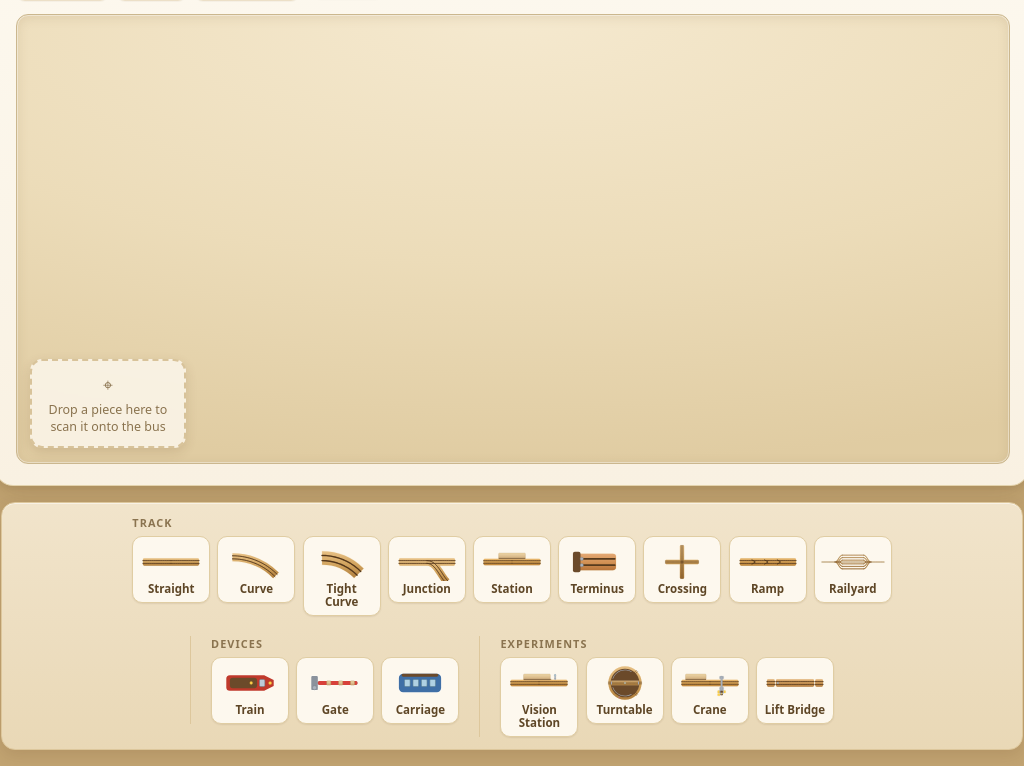
it: ToyTable — palette and placement › fans out the livery options when the carriage tool is armed
(page scrolled)
What coordinates should you click on to do the following:
click the button with test id "toybox-carriage"
I would click on:
 (420, 690)
Its box is [381,657,459,724].
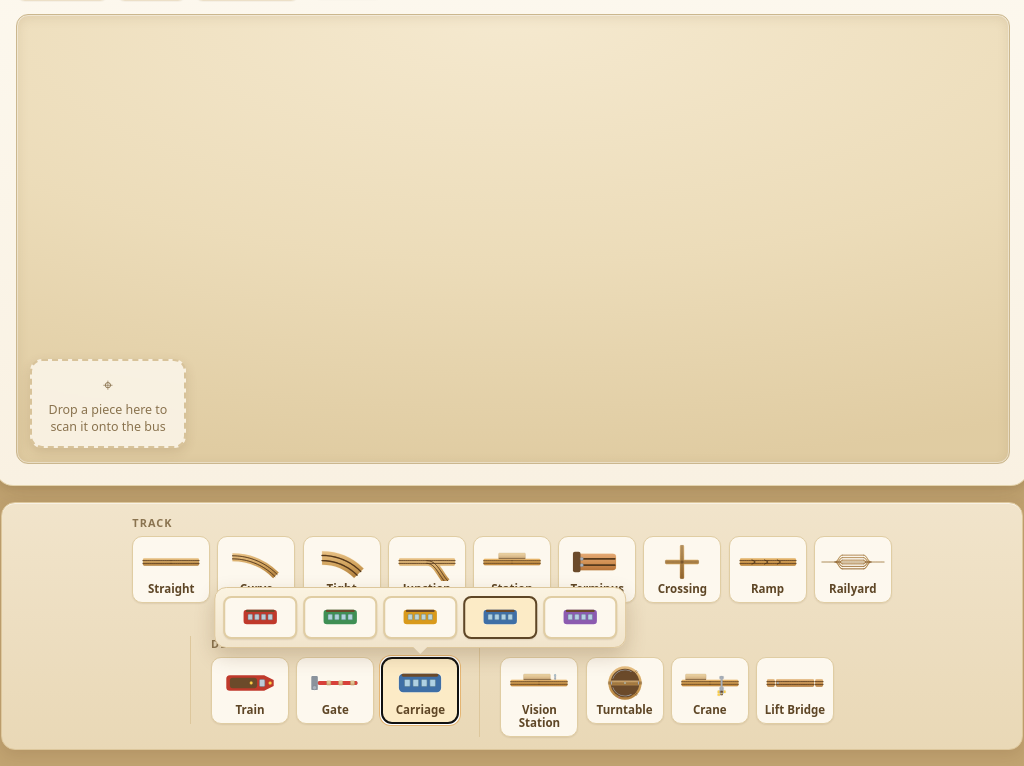
Expected: the button with test id "toybox-carriage-color-red" is shown, [224,596,297,639]
Expected: the button with test id "toybox-carriage-color-purple" is shown, [544,596,617,639]
